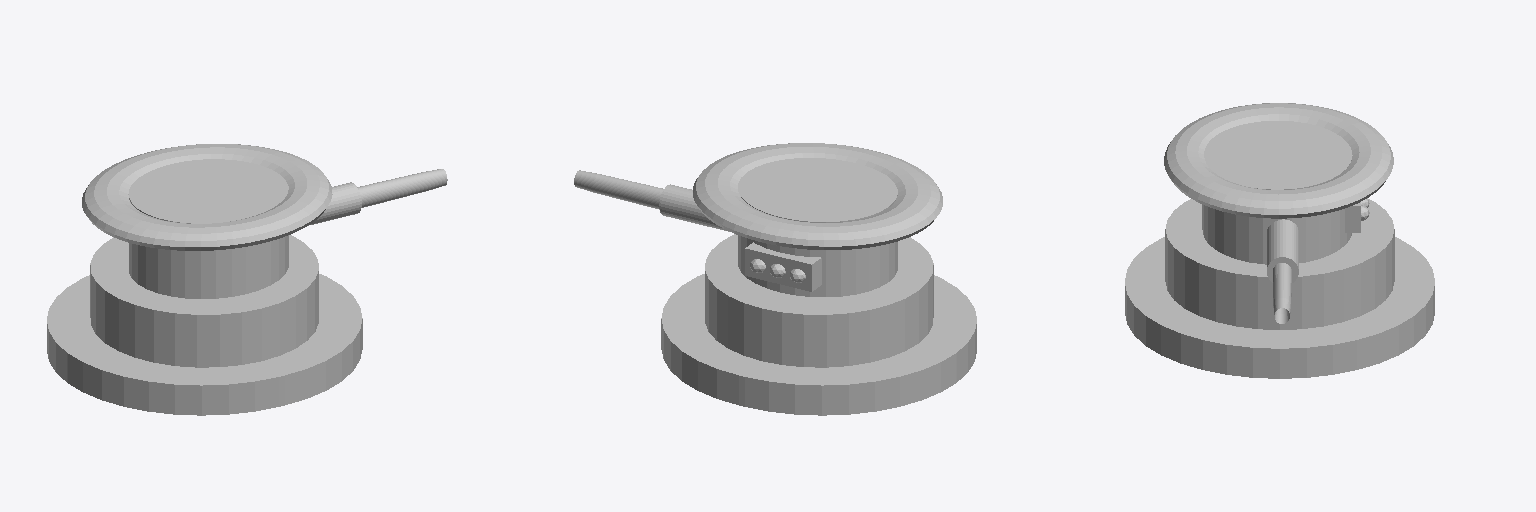
Rendered from Turret by Craftblood.obj.
3 renders of one model, left to right at view 1: azimuth 30°, elevation 25°; view 2: azimuth 150°, elevation 25°; view 3: azimuth 270°, elevation 25°, orthographic.
Parts seen in each view (by area): view 1: Cube.002, Cylinder, Cylinder.001, Torus, Torus.001, Cylinder.002; view 2: Cube.002, Cylinder, Torus, Cylinder.001, Cube.001, Torus.001, Cylinder.002; view 3: Cube.002, Cylinder, Cylinder.001, Torus, Cylinder.002, Torus.001.
Part boxes in pixels (bbox=[...]): Cube.002: bbox=[47, 274, 362, 415]; Cylinder: bbox=[90, 235, 318, 367]; Cylinder.001: bbox=[129, 159, 288, 298]; Torus: bbox=[82, 144, 332, 250]; Torus.001: bbox=[357, 169, 447, 207]; Cylinder.002: bbox=[308, 182, 361, 225]; Cube.002: bbox=[661, 274, 976, 415]; Cylinder: bbox=[705, 234, 933, 367]; Torus: bbox=[693, 143, 942, 249]; Cylinder.001: bbox=[738, 158, 897, 296]; Cube.001: bbox=[745, 242, 821, 291]; Torus.001: bbox=[574, 170, 663, 209]; Cylinder.002: bbox=[659, 184, 729, 231]; Cube.002: bbox=[1125, 237, 1434, 378]; Cylinder: bbox=[1165, 199, 1394, 329]; Cylinder.001: bbox=[1202, 121, 1352, 264]; Torus: bbox=[1164, 103, 1393, 218]; Cylinder.002: bbox=[1267, 219, 1298, 282]; Torus.001: bbox=[1273, 263, 1291, 323].
Size of the model in its own units: 3.8 by 1.56 by 2.71.